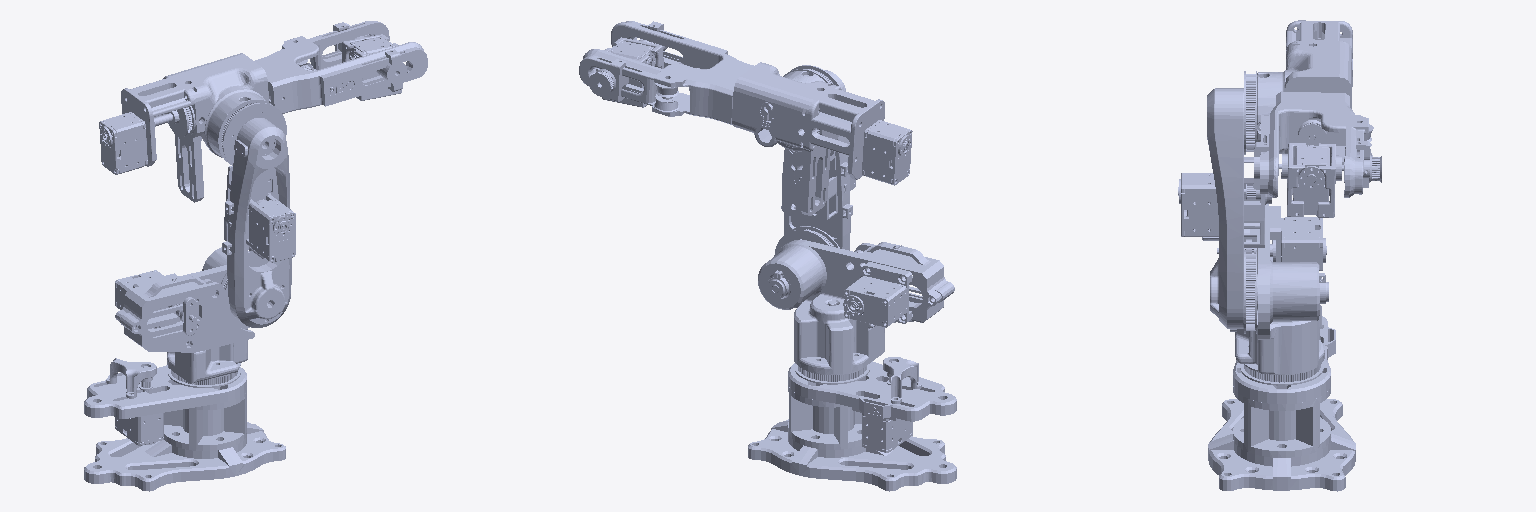
The robot description file, URDF, robot "FIBOTX_URDF":
<?xml version="1.0" encoding="utf-8"?>
<!-- This URDF was automatically created by SolidWorks to URDF Exporter! Originally created by [author] ([email redacted]) 
     Commit Version: 1.6.0-4-g7f85cfe  Build Version: 1.6.7995.38578
     For more information, please see http://wiki.ros.org/sw_urdf_exporter -->
<robot
  name="FIBOTX_URDF">
  <link
    name="base_link">
    <inertial>
      <origin
        xyz="-0.0217464635343756 0.00138320568075656 0.0375385287820507"
        rpy="0 0 0" />
      <mass
        value="0.475214910120417" />
      <inertia
        ixx="0.00030916305785501"
        ixy="3.12178839599637E-06"
        ixz="-4.27632045925545E-06"
        iyy="0.000660791470691891"
        iyz="-1.24980218618248E-07"
        izz="0.000863965839263336" />
    </inertial>
    <visual>
      <origin
        xyz="0 0 0"
        rpy="0 0 0" />
      <geometry>
        <mesh
          filename="package://FIBOTX_URDF/meshes/base_link.STL" />
      </geometry>
      <material
        name="">
        <color
          rgba="0.792156862745098 0.819607843137255 0.933333333333333 1" />
      </material>
    </visual>
    <collision>
      <origin
        xyz="0 0 0"
        rpy="0 0 0" />
      <geometry>
        <mesh
          filename="package://FIBOTX_URDF/meshes/base_link.STL" />
      </geometry>
    </collision>
  </link>
  <link
    name="Link_1">
    <inertial>
      <origin
        xyz="-0.00729529605850487 -0.0037215198004894 -0.0264385158663814"
        rpy="0 0 0" />
      <mass
        value="0.4173195286455" />
      <inertia
        ixx="0.000326988319005221"
        ixy="-3.87267898877897E-05"
        ixz="-4.09907518756616E-05"
        iyy="0.000566262876977719"
        iyz="-3.93355763595074E-06"
        izz="0.000406548541822654" />
    </inertial>
    <visual>
      <origin
        xyz="0 0 0"
        rpy="0 0 0" />
      <geometry>
        <mesh
          filename="package://FIBOTX_URDF/meshes/Link_1.STL" />
      </geometry>
      <material
        name="">
        <color
          rgba="0.792156862745098 0.819607843137255 0.933333333333333 1" />
      </material>
    </visual>
    <collision>
      <origin
        xyz="0 0 0"
        rpy="0 0 0" />
      <geometry>
        <mesh
          filename="package://FIBOTX_URDF/meshes/Link_1.STL" />
      </geometry>
    </collision>
  </link>
  <joint
    name="Joint_1"
    type="revolute">
    <origin
      xyz="0 0 0.167599999999993"
      rpy="0 0 0" />
    <parent
      link="base_link" />
    <child
      link="Link_1" />
    <axis
      xyz="0 0 -1" />
    <limit
      lower="0"
      upper="0"
      effort="0"
      velocity="0" />
  </joint>
  <link
    name="Link_2">
    <inertial>
      <origin
        xyz="0.0734148391002449 0.000550055796448845 0.000676795927539331"
        rpy="0 0 0" />
      <mass
        value="0.300715865967004" />
      <inertia
        ixx="8.38797407590431E-05"
        ixy="-5.12008239428015E-06"
        ixz="-7.62100135117617E-06"
        iyy="0.000669843568752184"
        iyz="-1.76999276096406E-08"
        izz="0.000724354374401406" />
    </inertial>
    <visual>
      <origin
        xyz="0 0 0"
        rpy="0 0 0" />
      <geometry>
        <mesh
          filename="package://FIBOTX_URDF/meshes/Link_2.STL" />
      </geometry>
      <material
        name="">
        <color
          rgba="0.792156862745098 0.819607843137255 0.933333333333333 1" />
      </material>
    </visual>
    <collision>
      <origin
        xyz="0 0 0"
        rpy="0 0 0" />
      <geometry>
        <mesh
          filename="package://FIBOTX_URDF/meshes/Link_2.STL" />
      </geometry>
    </collision>
  </link>
  <joint
    name="Joint_2"
    type="revolute">
    <origin
      xyz="0.037750165762156 -0.0387579022296727 0"
      rpy="1.56436187092188 -1.5707963267949 0" />
    <parent
      link="Link_1" />
    <child
      link="Link_2" />
    <axis
      xyz="0 0 -1" />
    <limit
      lower="0"
      upper="0"
      effort="0"
      velocity="0" />
  </joint>
  <link
    name="Link_3">
    <inertial>
      <origin
        xyz="-0.00396648531646449 0.0590719200588659 0.00244483345291613"
        rpy="0 0 0" />
      <mass
        value="0.370213409963547" />
      <inertia
        ixx="0.000293165691227168"
        ixy="2.37172021178879E-05"
        ixz="3.55108766367958E-05"
        iyy="0.000282710894904032"
        iyz="7.15631429245582E-06"
        izz="0.000309668472756878" />
    </inertial>
    <visual>
      <origin
        xyz="0 0 0"
        rpy="0 0 0" />
      <geometry>
        <mesh
          filename="package://FIBOTX_URDF/meshes/Link_3.STL" />
      </geometry>
      <material
        name="">
        <color
          rgba="0.792156862745098 0.819607843137255 0.933333333333333 1" />
      </material>
    </visual>
    <collision>
      <origin
        xyz="0 0 0"
        rpy="0 0 0" />
      <geometry>
        <mesh
          filename="package://FIBOTX_URDF/meshes/Link_3.STL" />
      </geometry>
    </collision>
  </link>
  <joint
    name="Joint_3"
    type="revolute">
    <origin
      xyz="0.177182290070085 -0.032946415586526 -0.0638999999941525"
      rpy="0 0 0.0633485784179579" />
    <parent
      link="Link_2" />
    <child
      link="Link_3" />
    <axis
      xyz="0 1 0" />
    <limit
      lower="0"
      upper="0"
      effort="0"
      velocity="0" />
  </joint>
  <link
    name="Link_4">
    <inertial>
      <origin
        xyz="-4.26272569029607E-05 0.000248172680805681 0.00318057032701269"
        rpy="0 0 0" />
      <mass
        value="0.17846259133199" />
      <inertia
        ixx="0.000407029159333243"
        ixy="-2.27363734327258E-07"
        ixz="2.25007631802101E-07"
        iyy="0.000321513772979912"
        iyz="8.49709401029125E-06"
        izz="0.000123512349876953" />
    </inertial>
    <visual>
      <origin
        xyz="0 0 0"
        rpy="0 0 0" />
      <geometry>
        <mesh
          filename="package://FIBOTX_URDF/meshes/Link_4.STL" />
      </geometry>
      <material
        name="">
        <color
          rgba="0.792156862745098 0.819607843137255 0.933333333333333 1" />
      </material>
    </visual>
    <collision>
      <origin
        xyz="0 0 0"
        rpy="0 0 0" />
      <geometry>
        <mesh
          filename="package://FIBOTX_URDF/meshes/Link_4.STL" />
      </geometry>
    </collision>
  </link>
  <joint
    name="Joint_4"
    type="revolute">
    <origin
      xyz="0 -0.0574199999864504 0"
      rpy="-1.5707963267949 -0.0252929173109536 3.14159265358979" />
    <parent
      link="Link_3" />
    <child
      link="Link_4" />
    <axis
      xyz="0 0 -1" />
    <limit
      lower="0"
      upper="0"
      effort="0"
      velocity="0" />
  </joint>
  <link
    name="Link_5">
    <inertial>
      <origin
        xyz="0.00083605476942239 0.00306901565825957 0.000248172680809233"
        rpy="0 0 0" />
      <mass
        value="0.17846259133199" />
      <inertia
        ixx="0.000389216637062064"
        ixy="-6.8796178392893E-05"
        ixz="2.34345512573137E-06"
        iyy="0.000141324872148131"
        iyz="8.17071104378902E-06"
        izz="0.000321513772979912" />
    </inertial>
    <visual>
      <origin
        xyz="0 0 0"
        rpy="0 0 0" />
      <geometry>
        <mesh
          filename="package://FIBOTX_URDF/meshes/Link_5.STL" />
      </geometry>
      <material
        name="">
        <color
          rgba="0.792156862745098 0.819607843137255 0.933333333333333 1" />
      </material>
    </visual>
    <collision>
      <origin
        xyz="0 0 0"
        rpy="0 0 0" />
      <geometry>
        <mesh
          filename="package://FIBOTX_URDF/meshes/Link_5.STL" />
      </geometry>
    </collision>
  </link>
  <joint
    name="Joint_5"
    type="revolute">
    <origin
      xyz="0 0 0"
      rpy="1.5707963267949 -0.252562470748617 -3.14159265358979" />
    <parent
      link="Link_4" />
    <child
      link="Link_5" />
    <axis
      xyz="-0.249885954017826 -0.968275275933761 0" />
    <limit
      lower="0"
      upper="0"
      effort="0"
      velocity="0" />
  </joint>
  <link
    name="Link_6">
    <inertial>
      <origin
        xyz="0.011333121416051 0.000131306165002343 -0.0186720242944176"
        rpy="0 0 0" />
      <mass
        value="0.0679795825450947" />
      <inertia
        ixx="1.11405305118874E-05"
        ixy="-4.74757136244241E-09"
        ixz="2.55460935985814E-07"
        iyy="1.94327684979586E-05"
        iyz="3.93437824227911E-09"
        izz="1.43441908882262E-05" />
    </inertial>
    <visual>
      <origin
        xyz="0 0 0"
        rpy="0 0 0" />
      <geometry>
        <mesh
          filename="package://FIBOTX_URDF/meshes/Link_6.STL" />
      </geometry>
      <material
        name="">
        <color
          rgba="0.792156862745098 0.819607843137255 0.933333333333333 1" />
      </material>
    </visual>
    <collision>
      <origin
        xyz="0 0 0"
        rpy="0 0 0" />
      <geometry>
        <mesh
          filename="package://FIBOTX_URDF/meshes/Link_6.STL" />
      </geometry>
    </collision>
  </link>
  <joint
    name="Joint_6"
    type="revolute">
    <origin
      xyz="0.0191601724195181 0.0830106916439024 0"
      rpy="1.5707963267949 0 2.99727036695468" />
    <parent
      link="Link_5" />
    <child
      link="Link_6" />
    <axis
      xyz="0 0 -1" />
    <limit
      lower="0"
      upper="0"
      effort="0"
      velocity="0" />
  </joint>
</robot>

--- Render facts (derived) ---
The picture shows the robot from 3 angles, left to right: view 1: azimuth 30°, elevation 25°; view 2: azimuth 150°, elevation 25°; view 3: azimuth 270°, elevation 25°; orthographic projection.
Robot: FIBOTX_URDF — 7 links, 6 joints (6 revolute); root link base_link; default pose: every joint at zero.
Links seen in each view (by area): view 1: base_link, Link_2, Link_3, Link_1, Link_4, Link_6; view 2: base_link, Link_1, Link_3, Link_4, Link_2, Link_6, Link_5; view 3: base_link, Link_2, Link_1, Link_4, Link_3, Link_6.
Link boxes in pixels (x1,y1,x2,y2): base_link: [84, 358, 285, 491]; Link_2: [218, 99, 295, 327]; Link_3: [99, 53, 268, 202]; Link_1: [115, 247, 254, 387]; Link_4: [254, 21, 427, 113]; Link_6: [342, 34, 401, 100]; base_link: [748, 301, 956, 491]; Link_1: [758, 240, 954, 384]; Link_3: [732, 62, 912, 215]; Link_4: [579, 21, 753, 124]; Link_2: [775, 65, 855, 252]; Link_6: [600, 37, 663, 107]; Link_5: [582, 22, 712, 117]; base_link: [1208, 305, 1355, 491]; Link_2: [1178, 71, 1271, 333]; Link_1: [1217, 201, 1328, 385]; Link_4: [1253, 91, 1381, 197]; Link_3: [1257, 20, 1352, 153]; Link_6: [1279, 143, 1367, 217].
Size in the robot's own frame: 0.3606 by 0.1663 by 0.3747 metres.
7 mesh visuals loaded from 7 distinct referenced files (7 binary STL).